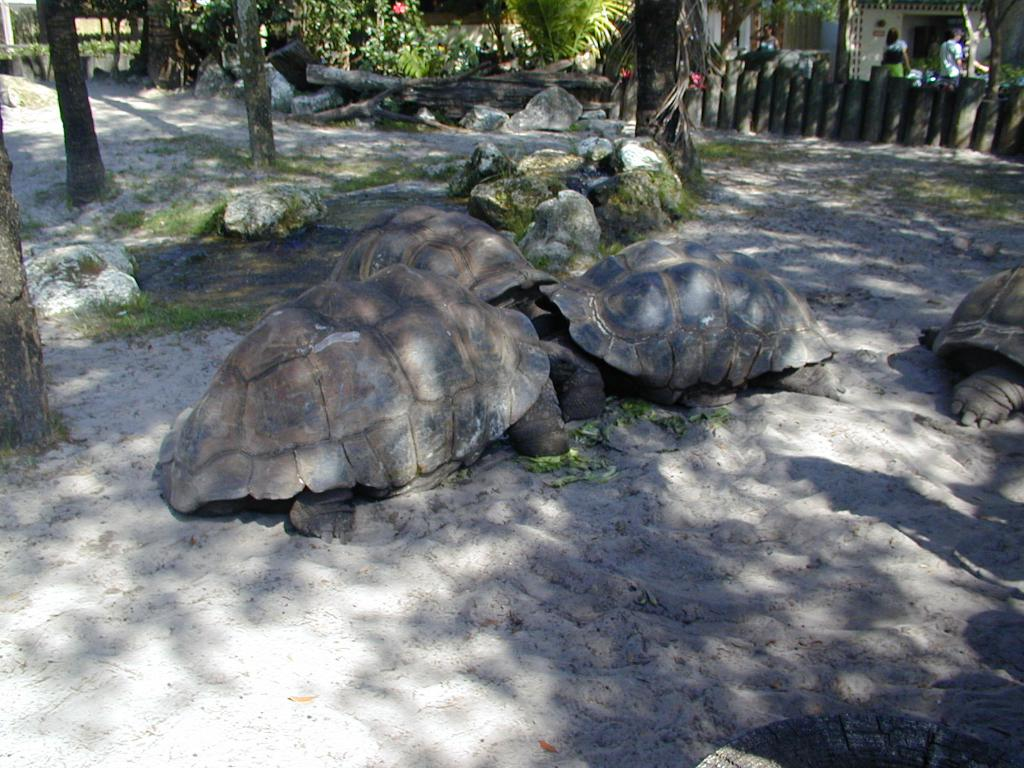Sea turtles: (146, 263, 569, 536), (528, 235, 849, 423), (323, 198, 569, 325), (916, 266, 1023, 431)
